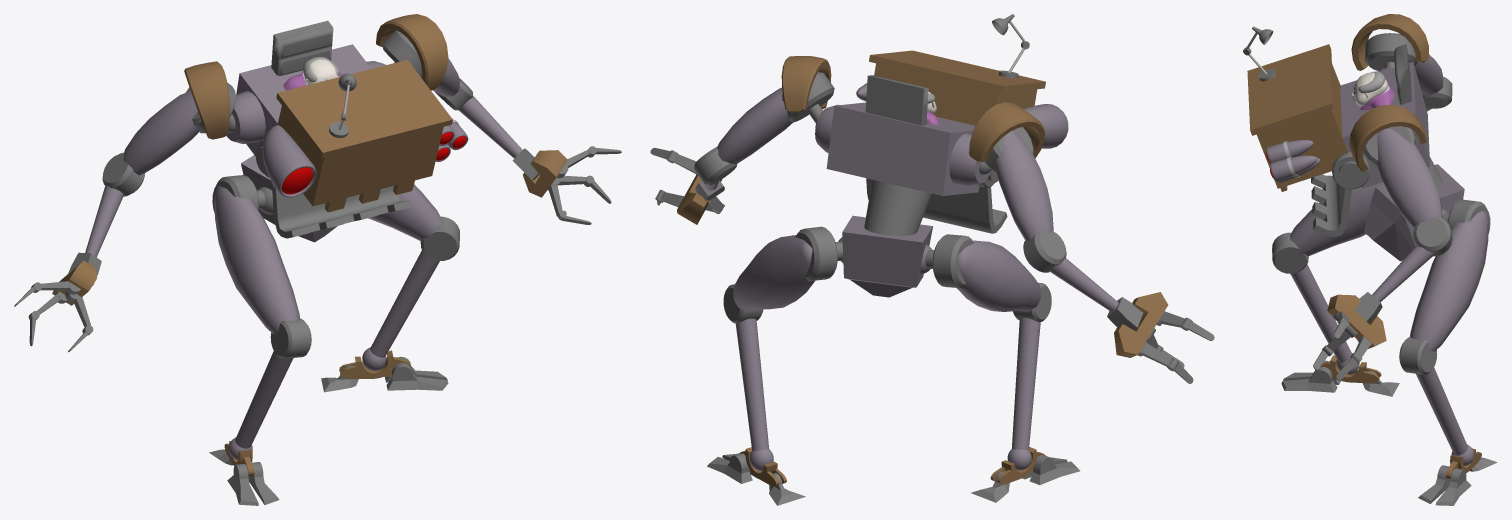
The model's file is start_wait_robo.fbx.
The picture shows the model from 3 angles, left to right: view 1: azimuth 30°, elevation 25°; view 2: azimuth 150°, elevation 25°; view 3: azimuth 270°, elevation 25°; orthographic projection. The views are drawn at different scales.
Visible parts, largest first — view 1: polySurface11, polySurface19, pPipe8, pPipe7, pSphere31, pCube10, pSphere34, polySurface26, polySurface2, pSphere27, pCylinder130, polySurface27 (+4 smaller); view 2: polySurface11, pPipe8, polySurface19, pSphere27, pPipe7, pCube13, pSphere34, pSphere31, polySurface26, pCylinder29, pCube10, pCube50 (+6 smaller); view 3: polySurface11, pPipe7, pSphere27, pPipe8, pCube13, pSphere31, pSphere34, polySurface2, polySurface19, pCube10, polySurface27, pCylinder52 (+5 smaller).
Boxes of the visible parts, bbox=[...] form: polySurface11: bbox=[226, 20, 468, 212]; polySurface19: bbox=[212, 175, 299, 333]; pPipe8: bbox=[123, 61, 235, 175]; pPipe7: bbox=[376, 14, 460, 96]; pSphere31: bbox=[362, 216, 459, 370]; pCube10: bbox=[271, 182, 412, 238]; pSphere34: bbox=[228, 318, 311, 460]; polySurface26: bbox=[68, 152, 144, 285]; polySurface2: bbox=[435, 78, 539, 180]; pSphere27: bbox=[368, 184, 441, 240]; pCylinder130: bbox=[227, 462, 279, 505]; polySurface27: bbox=[523, 150, 568, 197]; polySurface11: bbox=[815, 14, 1068, 195]; pPipe8: bbox=[969, 102, 1053, 240]; polySurface19: bbox=[920, 234, 1040, 311]; pSphere27: bbox=[733, 226, 843, 311]; pPipe7: bbox=[717, 56, 834, 164]; pCube13: bbox=[842, 215, 933, 297]; pSphere34: bbox=[1007, 283, 1051, 470]; pSphere31: bbox=[723, 284, 773, 470]; polySurface26: bbox=[1023, 231, 1143, 329]; pCylinder29: bbox=[864, 179, 931, 235]; pCube10: bbox=[866, 178, 1007, 233]; pCube50: bbox=[1114, 292, 1168, 357]; polySurface11: bbox=[1243, 26, 1429, 191]; pPipe7: bbox=[1349, 105, 1442, 228]; pSphere27: bbox=[1410, 199, 1490, 351]; pPipe8: bbox=[1351, 14, 1443, 95]; pCube13: bbox=[1364, 164, 1464, 261]; pSphere31: bbox=[1399, 337, 1473, 465]; pSphere34: bbox=[1272, 232, 1359, 374]; polySurface2: bbox=[1354, 216, 1452, 323]; polySurface19: bbox=[1290, 182, 1383, 255]; pCube10: bbox=[1311, 174, 1351, 236]; polySurface27: bbox=[1327, 294, 1386, 348]; pCylinder52: bbox=[1418, 465, 1471, 505].
Bounding box in the file's own units: 612 × 420 × 249.
